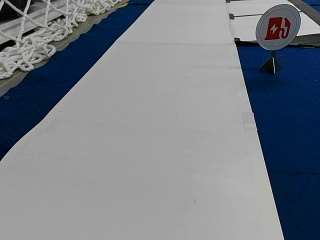battery: (255, 3, 300, 50)
